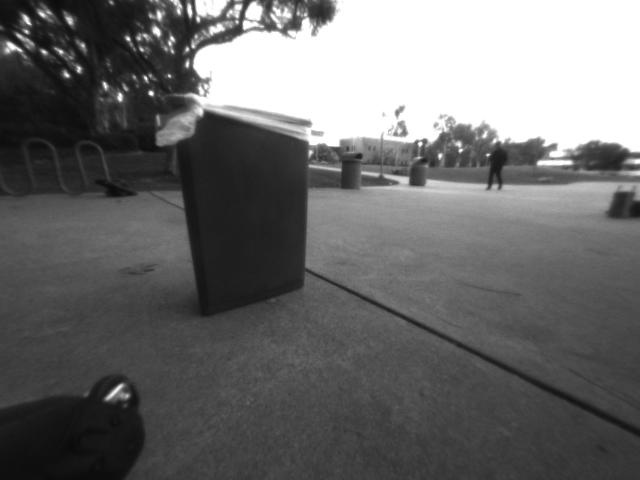trashcan: (150, 89, 324, 331)
